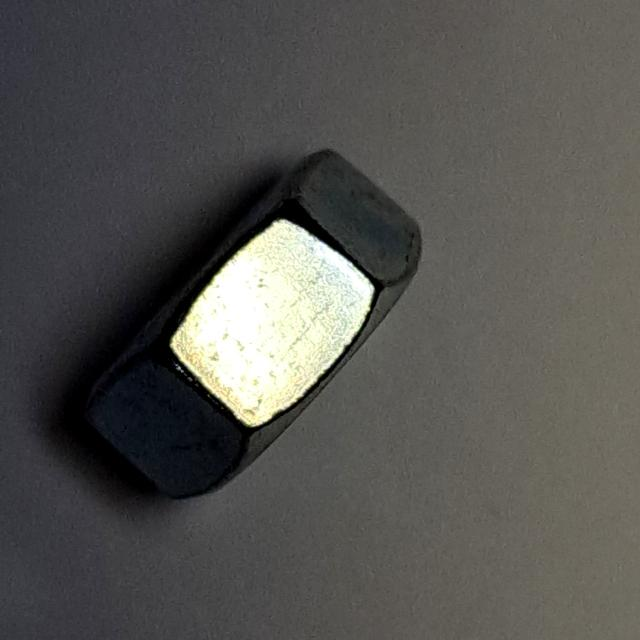Side_Excellent: (64, 121, 444, 511)
